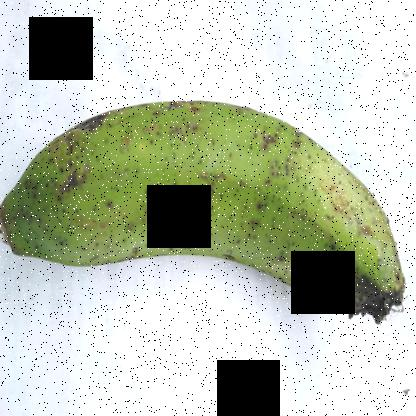unripe: (0, 77, 411, 333)
